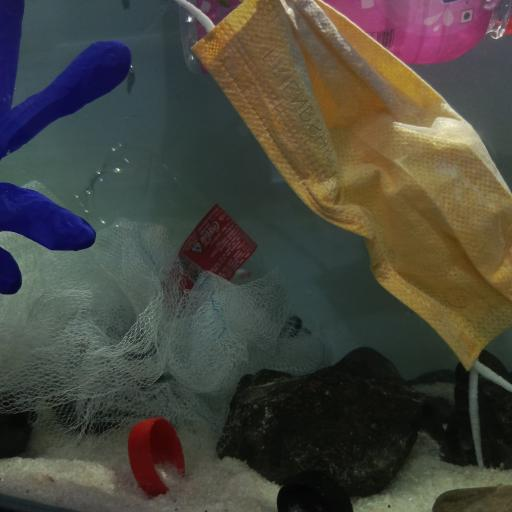bottle_cap: (129, 416, 186, 494), (276, 474, 354, 512)
glove: (1, 0, 131, 295)
mask: (171, 0, 512, 413)
net: (0, 179, 314, 436)
plastic_bottle: (76, 140, 312, 344), (180, 0, 503, 68)
